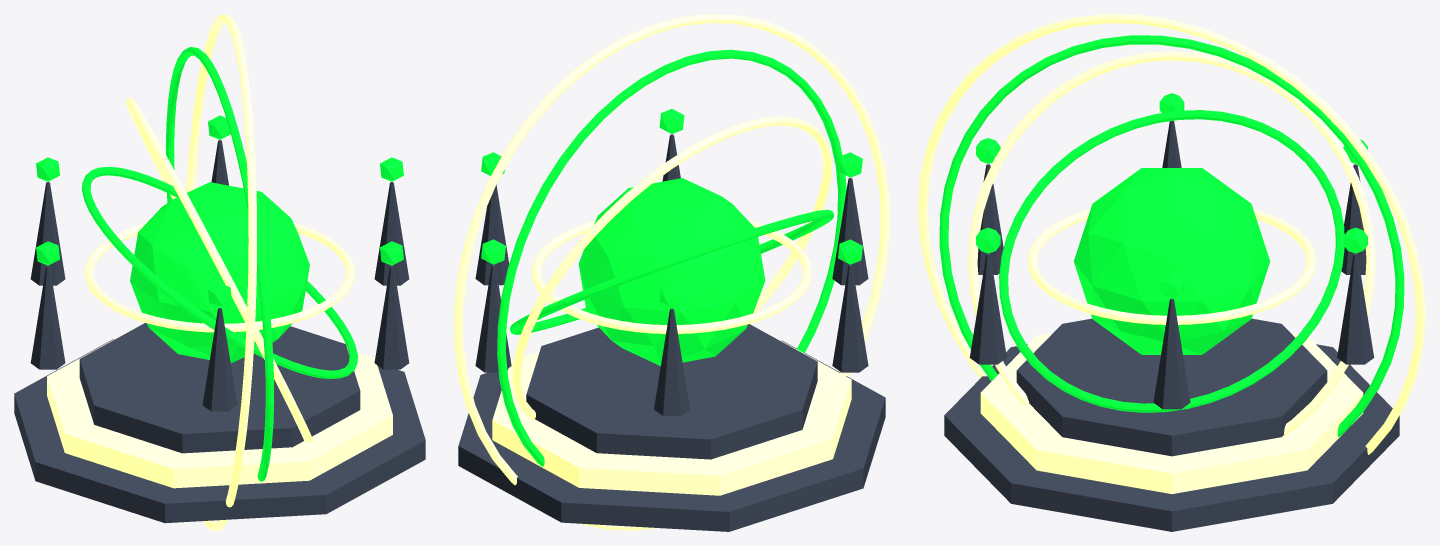
The model's file is gpu-blender-v55.glb.
3 views of the same model, side by side, from view 1: azimuth 30°, elevation 25°; view 2: azimuth 150°, elevation 25°; view 3: azimuth 270°, elevation 25° (orthographic). The views are drawn at different scales.
Parts seen in each view (by area): view 1: Cylinder.002, Cylinder, SovereignCore_payload-entropy-studio, Cylinder.001, Torus.004, Torus.003, Torus.001, Torus, Torus.002, Cone.004, Cone.003, Cone.005 (+3 smaller); view 2: Cylinder.002, SovereignCore_payload-entropy-studio, Cylinder, Cylinder.001, Torus.004, Torus.003, Torus.002, Torus.001, Torus, Cone.003, Cone.002, Cone.001 (+2 smaller); view 3: SovereignCore_payload-entropy-studio, Cylinder.002, Cylinder, Cylinder.001, Torus.004, Torus.001, Torus.003, Torus.002, Torus, Cone, Cone.001, Cone.005 (+3 smaller).
Boxes of the visible parts, x1,y1,x2,y2 form: Cylinder.002: [79, 323, 360, 453]; Cylinder: [14, 339, 425, 523]; SovereignCore_payload-entropy-studio: [130, 182, 309, 363]; Cylinder.001: [47, 330, 392, 488]; Torus.004: [186, 14, 257, 531]; Torus.003: [165, 47, 274, 483]; Torus.001: [82, 166, 357, 379]; Torus: [85, 223, 354, 332]; Torus.002: [126, 98, 312, 442]; Cone.004: [202, 308, 237, 411]; Cone.003: [30, 266, 65, 369]; Cone.005: [374, 266, 409, 369]; Cylinder.002: [526, 324, 817, 459]; SovereignCore_payload-entropy-studio: [578, 178, 765, 366]; Cylinder: [458, 340, 885, 531]; Cylinder.001: [492, 331, 851, 495]; Torus.004: [454, 14, 889, 530]; Torus.003: [497, 49, 846, 466]; Torus.002: [512, 116, 831, 419]; Torus.001: [510, 209, 833, 334]; Torus: [531, 220, 812, 333]; Cone.003: [832, 265, 868, 372]; Cone.002: [654, 308, 689, 415]; Cone.001: [475, 265, 511, 372]; SovereignCore_payload-entropy-studio: [1073, 168, 1270, 354]; Cylinder.002: [1016, 318, 1327, 456]; Cylinder: [944, 344, 1399, 531]; Cylinder.001: [980, 332, 1363, 493]; Torus.004: [918, 14, 1425, 454]; Torus.001: [999, 110, 1344, 412]; Torus.003: [939, 35, 1404, 437]; Torus.002: [968, 51, 1375, 435]; Torus: [1027, 209, 1316, 324]; Cone: [1153, 298, 1190, 409]; Cone.001: [1337, 254, 1374, 364]; Cone.005: [969, 254, 1006, 364].
Size of the model in its own units: 4.41 by 5.33 by 4.9.
